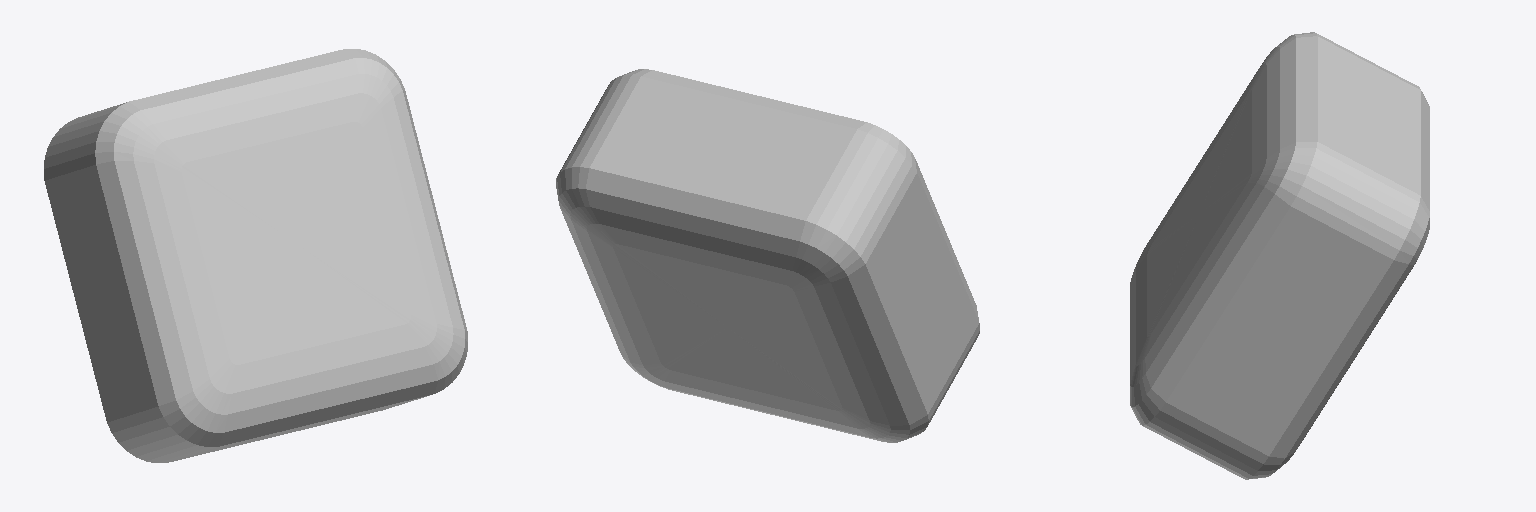
The model's file is healing_bandage.obj.
3 renders of one model, left to right at view 1: azimuth 30°, elevation 25°; view 2: azimuth 150°, elevation 25°; view 3: azimuth 270°, elevation 25°, orthographic.
Visible parts, largest first — view 1: aidkit; view 2: aidkit; view 3: aidkit.
Boxes of the visible parts, x1,y1,x2,y2 form: aidkit: [44, 49, 467, 462]; aidkit: [556, 69, 979, 442]; aidkit: [1130, 32, 1429, 479].
Size of the model in its own units: 0.998 by 1.03 by 0.841.